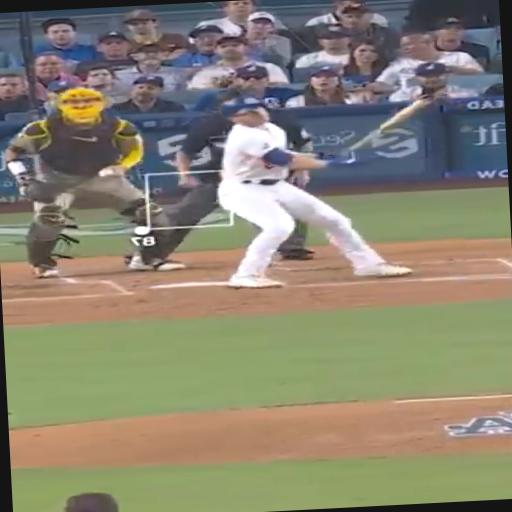bat: (347, 98, 431, 150)
